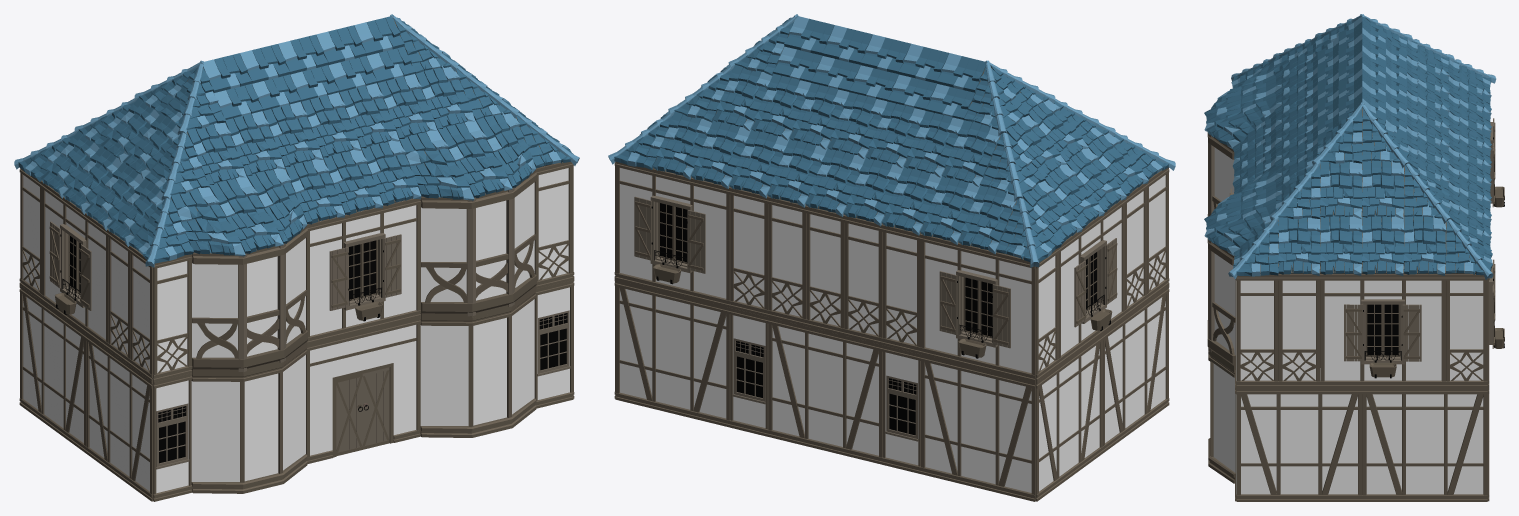
Rendered from house_14_full.glb.
3 views of the same model, side by side, from view 1: azimuth 30°, elevation 25°; view 2: azimuth 150°, elevation 25°; view 3: azimuth 270°, elevation 25° (orthographic). The views are drawn at different scales.
Parts seen in each view (by area): view 1: WINDOW_01_Balkon_2, WINDOW_01_Balkon_3, WINDOW_05_2, DOOR_03_2, WINDOW_02_Balkon_2, WINDOW_02_Balkon_3, ROOF_base_round_3, ROOF_base_round_2, WALL_02_2, WINDOW_05_6, WALL_02_3, WALL_04_3 (+41 smaller); view 2: WINDOW_05_5, WALL_02_6, WINDOW_05_4, WALL_02_5, WALL_02_4, WALL_02_3, WINDOW_05_6, WALL_02_2, WALL_04_11, WALL_04_9, WALL_04_12, WALL_04_10 (+47 smaller); view 3: WALL_02_8, WINDOW_05_3, WALL_02_7, WALL_04_14, WALL_04_15, WALL_04_13, ROOF_base_round_3, ROOF_base_round_2, WINDOW_02_Balkon_3, WINDOW_01_Balkon_3, ROOF_base_14, ROOF_base_17 (+65 smaller).
Part boxes in pixels (bbox=[...]): WINDOW_01_Balkon_2: bbox=[191, 346, 307, 493]; WINDOW_01_Balkon_3: bbox=[420, 290, 536, 437]; WINDOW_05_2: bbox=[306, 198, 421, 344]; DOOR_03_2: bbox=[306, 317, 420, 464]; WINDOW_02_Balkon_2: bbox=[191, 226, 307, 373]; WINDOW_02_Balkon_3: bbox=[420, 170, 536, 317]; ROOF_base_round_3: bbox=[399, 112, 536, 200]; ROOF_base_round_2: bbox=[171, 168, 307, 256]; WALL_02_2: bbox=[85, 334, 153, 501]; WINDOW_05_6: bbox=[41, 181, 108, 349]; WALL_02_3: bbox=[19, 285, 86, 452]; WALL_04_3: bbox=[534, 162, 573, 288]; WINDOW_05_5: bbox=[920, 234, 1035, 381]; WALL_02_6: bbox=[615, 280, 730, 427]; WINDOW_05_4: bbox=[615, 161, 730, 307]; WALL_02_5: bbox=[767, 317, 882, 464]; WALL_02_4: bbox=[920, 354, 1035, 501]; WALL_02_3: bbox=[1035, 334, 1103, 501]; WINDOW_05_6: bbox=[1058, 199, 1125, 365]; WALL_02_2: bbox=[1102, 285, 1169, 452]; WALL_04_11: bbox=[767, 196, 806, 326]; WALL_04_9: bbox=[844, 215, 882, 344]; WALL_04_12: bbox=[729, 187, 768, 316]; WALL_04_10: bbox=[806, 206, 844, 335]; WALL_02_8: bbox=[1236, 388, 1362, 501]; WINDOW_05_3: bbox=[1320, 274, 1445, 388]; WALL_02_7: bbox=[1362, 388, 1487, 501]; WALL_04_14: bbox=[1278, 274, 1320, 388]; WALL_04_15: bbox=[1236, 274, 1278, 388]; WALL_04_13: bbox=[1446, 274, 1487, 388]; ROOF_base_round_3: bbox=[1204, 164, 1276, 255]; ROOF_base_round_2: bbox=[1204, 58, 1276, 149]; WINDOW_02_Balkon_3: bbox=[1207, 238, 1235, 369]; WINDOW_01_Balkon_3: bbox=[1208, 353, 1235, 483]; ROOF_base_14: bbox=[1320, 215, 1362, 275]; ROOF_base_17: bbox=[1362, 215, 1404, 275].
Size of the model in its own units: 11.82 by 9.12 by 7.19.
1 material, 1 textured.
